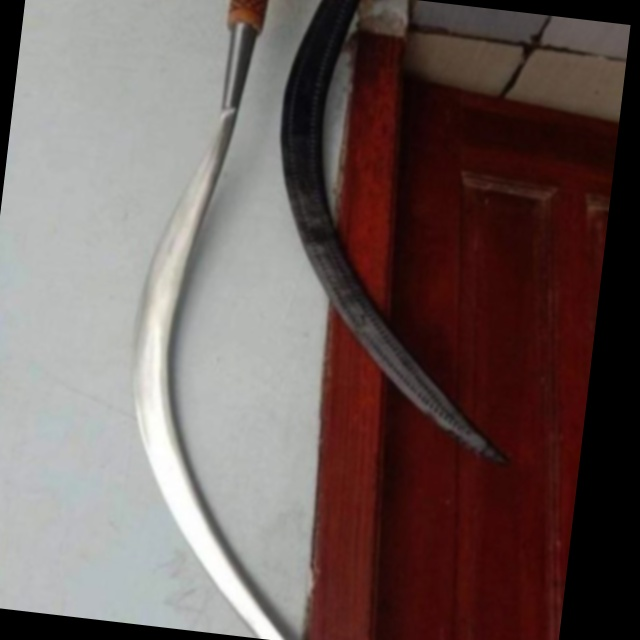Sharp-Object: (114, 0, 364, 640)
